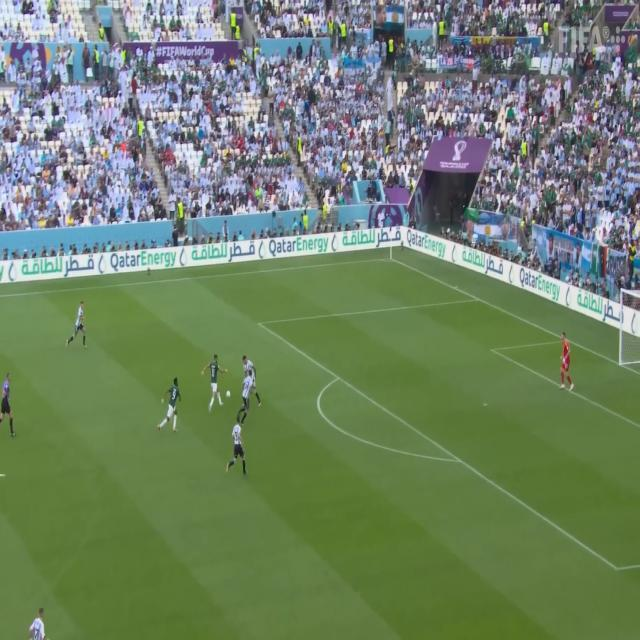football: (221, 386, 237, 400)
